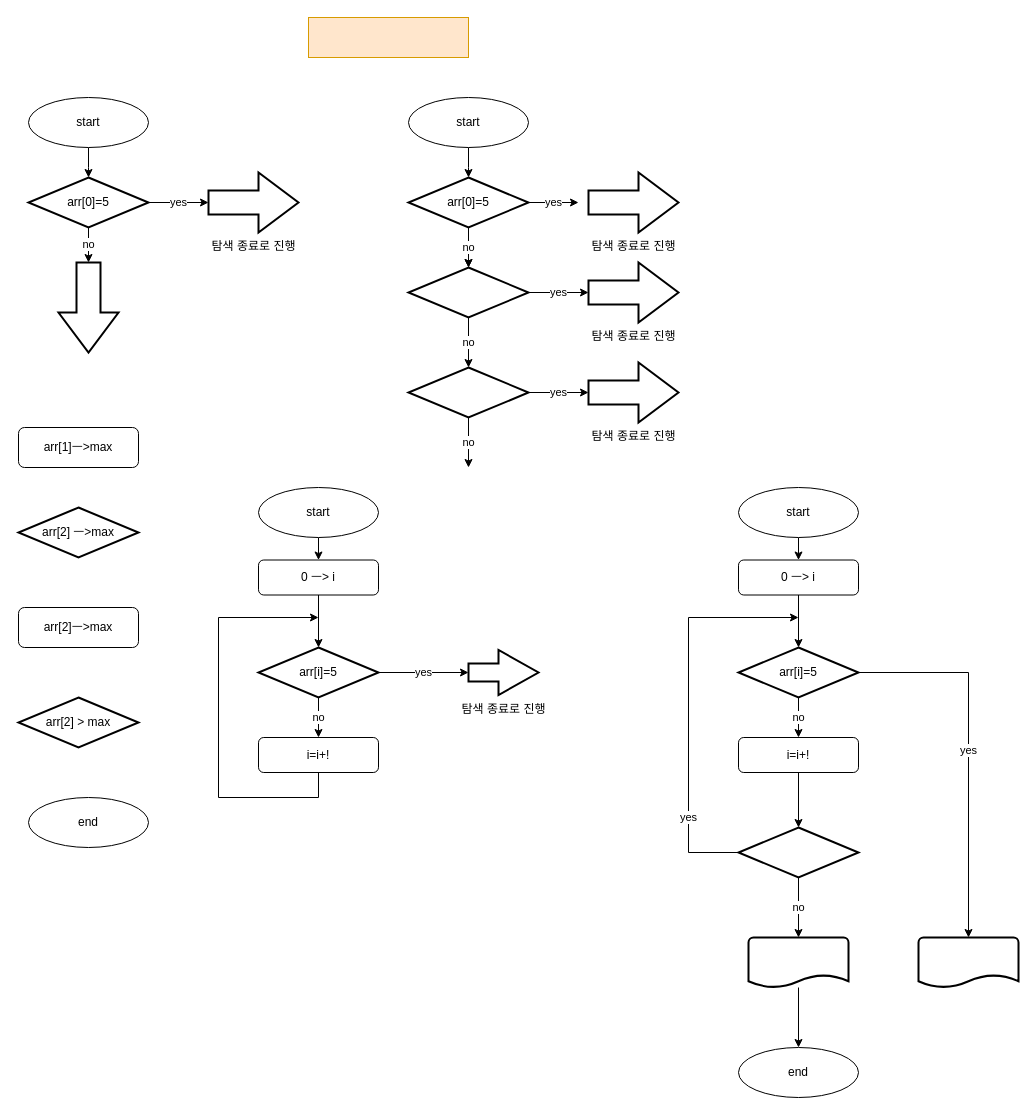
Image size: 1036x1115. Some labels were removed from this diagram. Each missing label, with the centre of its shape:
"'i번째 요소가 일치'" goes at (968,962).
"'찾지 못했습니다." goes at (798,962).
"arr[1]=5" goes at (468,292).
"arr[2]=5" goes at (468,392).
"i<len(arr)" goes at (798,852).
"다음 요소로 진행한다." goes at (88,307).
"선형 탐색법" goes at (388,37).
